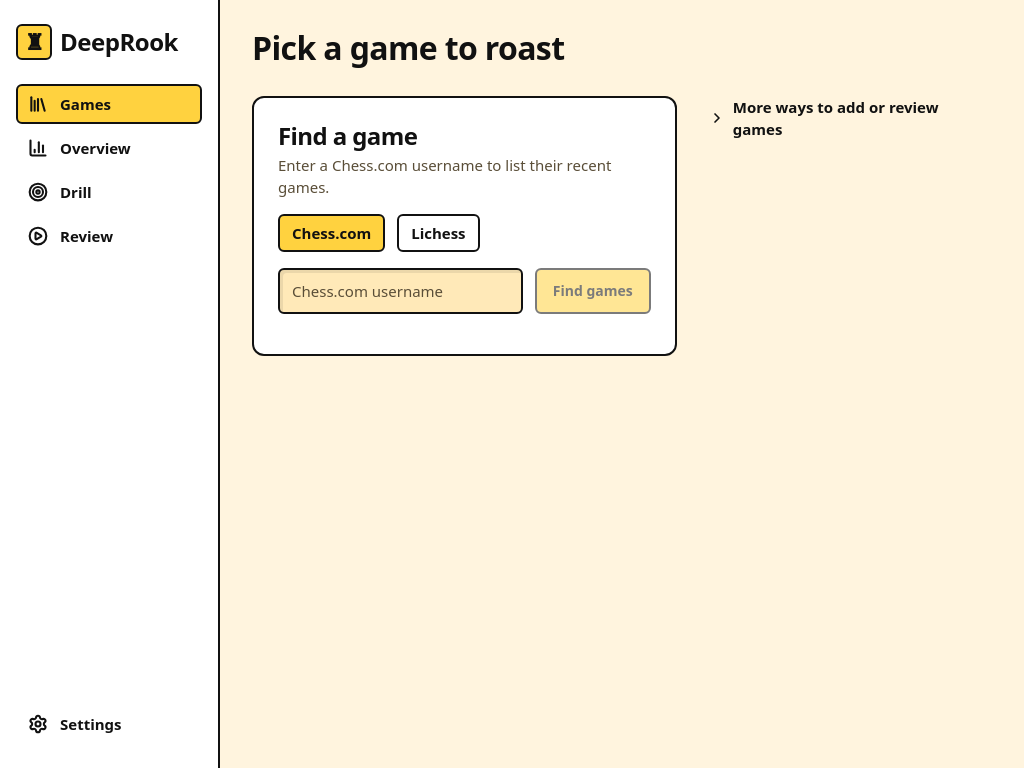
Test: the source switch is a radio group the arrow keys move through
expect the element named "Game source" is shown: met, box 277,214 -> 480,252
Click the radio button labelled "Chess.com" at (332, 233), box 278,214 -> 385,252
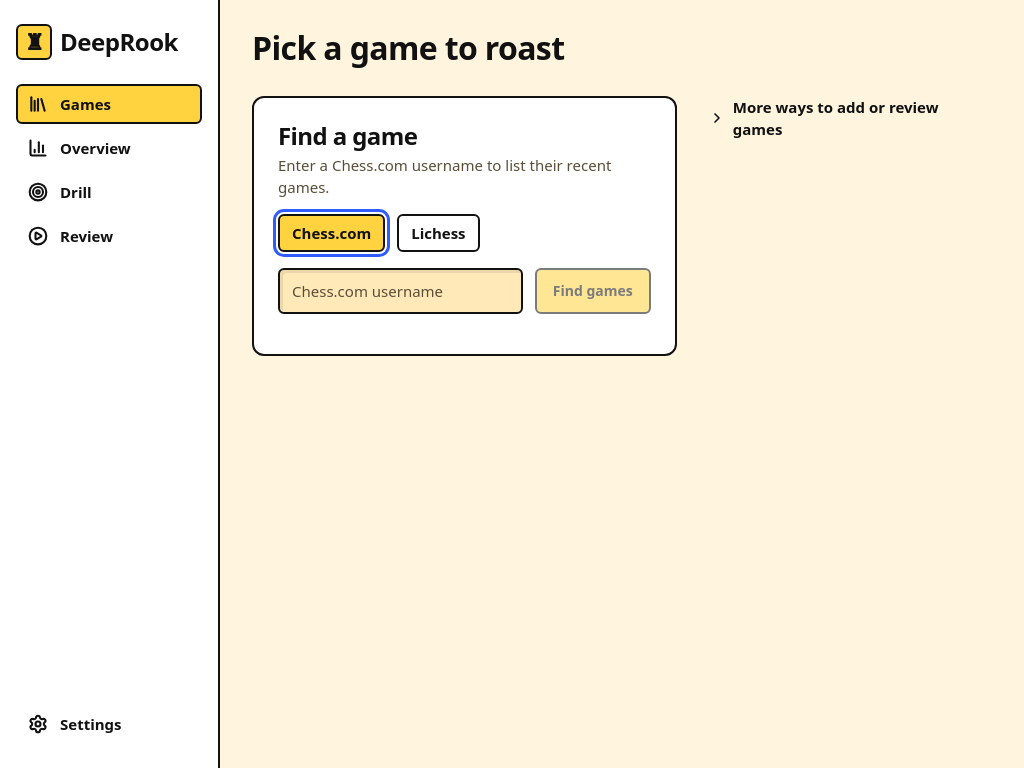
Press Arrowright
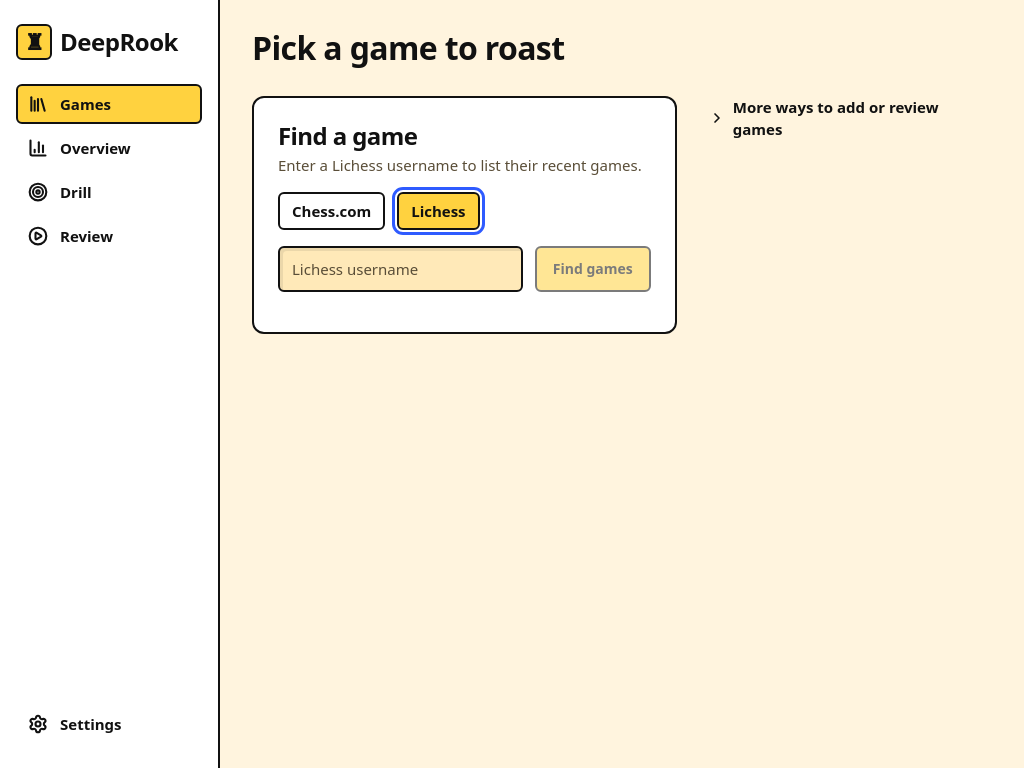
expect the radio button labelled "Lichess" is checked: met, box 397,192 -> 480,230
expect the field labelled "Lichess username" is shown: met, box 278,246 -> 523,292
expect the text labelled "Chess.com username" is gone: met
